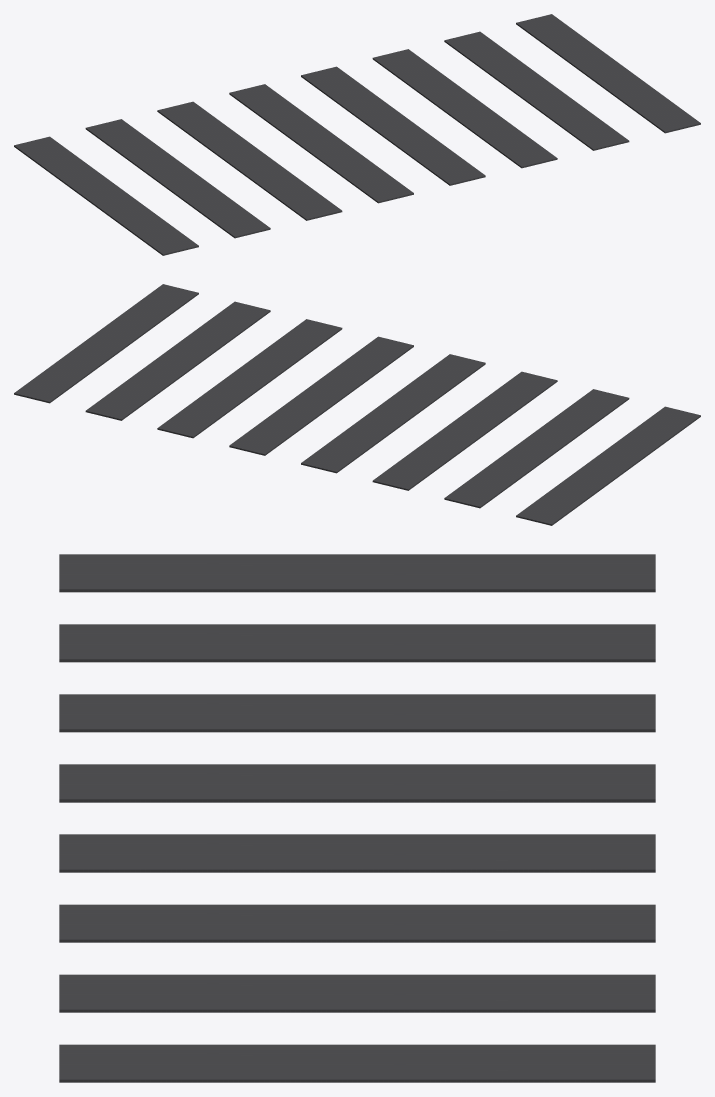
Rendered from kit_crosswalk.glb.
3 views of the same model, one above another, from view 1: azimuth 30°, elevation 25°; view 2: azimuth 150°, elevation 25°; view 3: azimuth 270°, elevation 25° (orthographic). The views are drawn at different scales.
Visible parts, largest first — view 1: cw_stripe1, cw_stripe3, cw_stripe4, cw_stripe6, cw_stripe0, cw_stripe2, cw_stripe5, cw_stripe7; view 2: cw_stripe1, cw_stripe3, cw_stripe4, cw_stripe6, cw_stripe0, cw_stripe2, cw_stripe5, cw_stripe7; view 3: cw_stripe0, cw_stripe1, cw_stripe2, cw_stripe3, cw_stripe4, cw_stripe5, cw_stripe6, cw_stripe7.
Part boxes in pixels (x1,y1,x2,y2): cw_stripe1: (85, 119, 270, 238); cw_stripe3: (229, 84, 413, 203); cw_stripe4: (301, 66, 485, 185); cw_stripe6: (444, 31, 629, 150); cw_stripe0: (14, 136, 198, 255); cw_stripe2: (157, 101, 342, 220); cw_stripe5: (372, 49, 557, 168); cw_stripe7: (516, 14, 700, 133); cw_stripe1: (444, 389, 629, 508); cw_stripe3: (301, 354, 485, 473); cw_stripe4: (229, 336, 413, 455); cw_stripe6: (85, 301, 270, 420); cw_stripe0: (516, 406, 700, 525); cw_stripe2: (372, 371, 557, 490); cw_stripe5: (157, 319, 342, 438); cw_stripe7: (14, 284, 198, 403); cw_stripe0: (59, 554, 655, 592); cw_stripe1: (59, 624, 655, 662); cw_stripe2: (59, 694, 655, 732); cw_stripe3: (59, 764, 655, 802); cw_stripe4: (59, 834, 655, 872); cw_stripe5: (59, 904, 655, 942); cw_stripe6: (59, 974, 655, 1012); cw_stripe7: (59, 1044, 655, 1082).
Bounding box in the file's own units: 7.5 × 0.02 × 3.6.
Materials: 1 (1 with a texture image).
